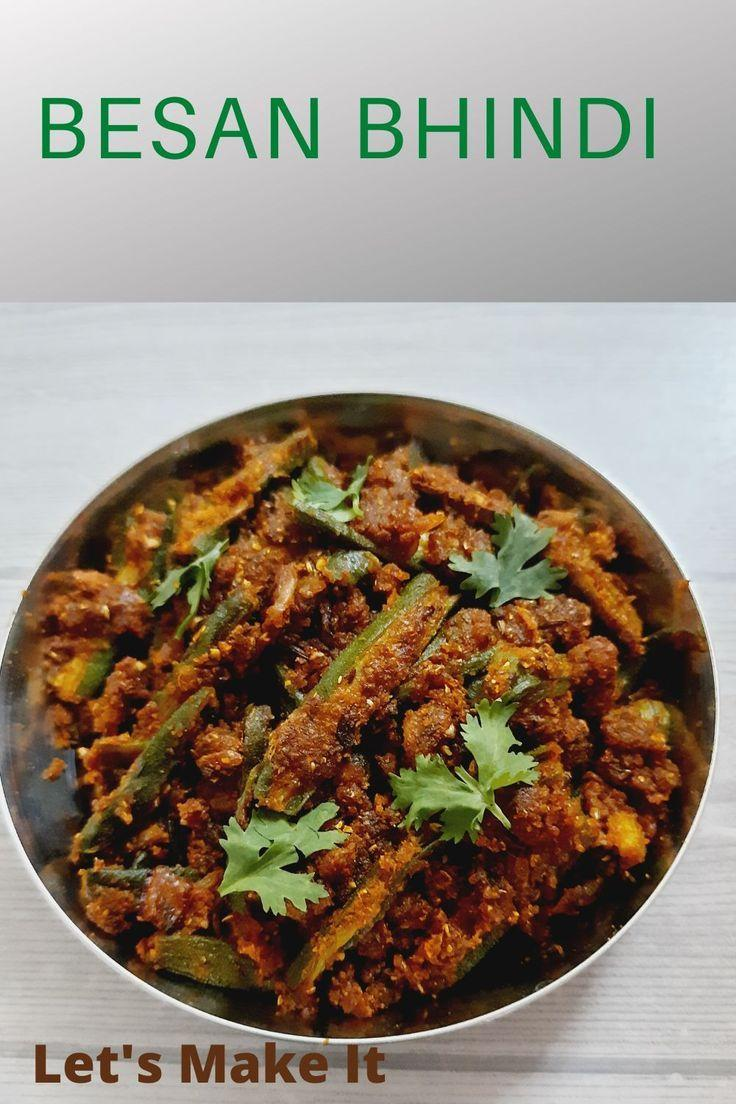bhindi: (42, 516, 658, 972)
